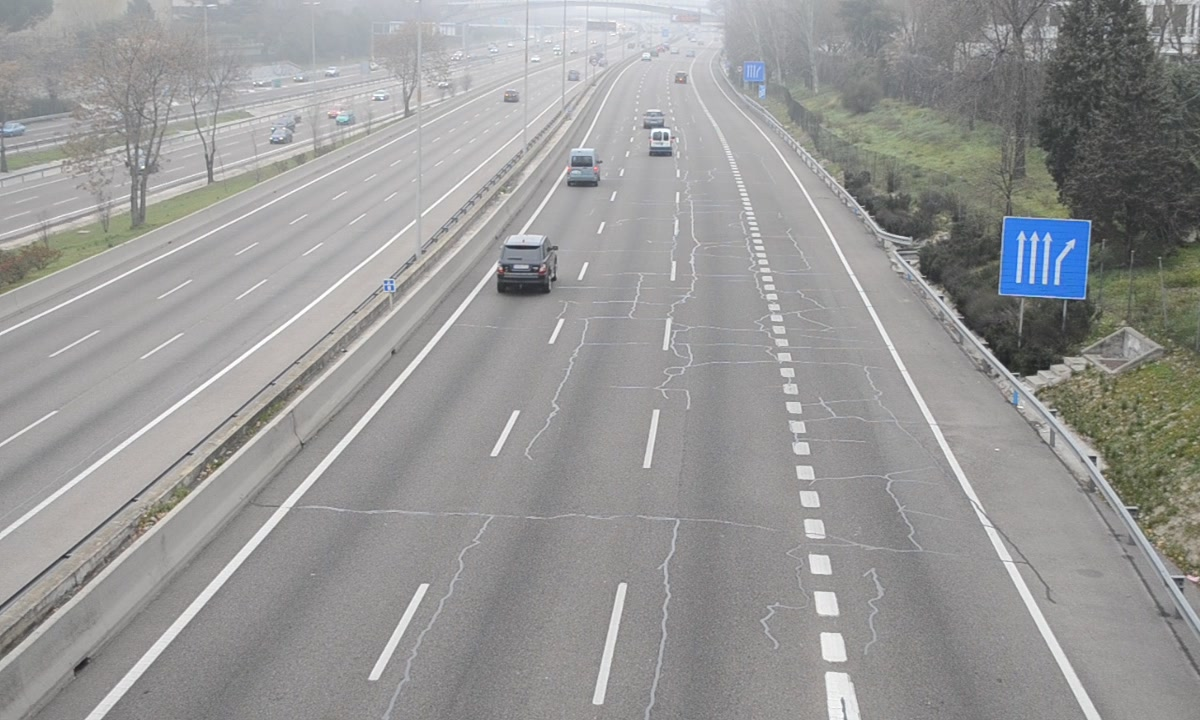car: (497, 234, 556, 290)
van: (568, 148, 601, 187)
